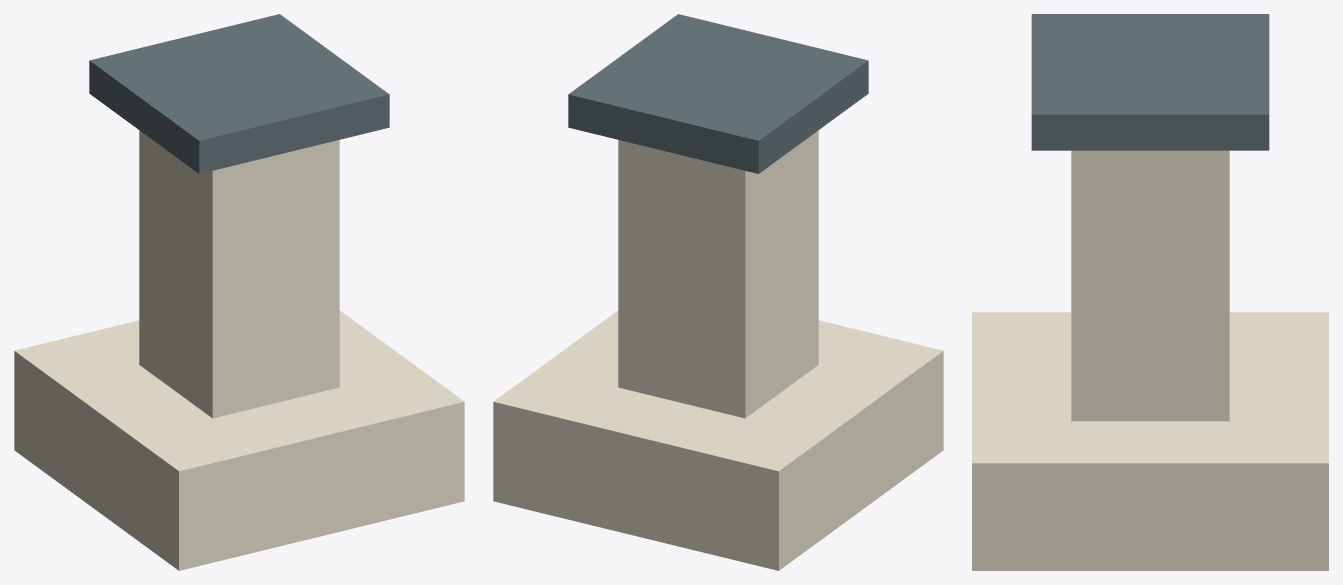
The model's file is observatory.glb.
3 renders of one model, left to right at view 1: azimuth 30°, elevation 25°; view 2: azimuth 150°, elevation 25°; view 3: azimuth 270°, elevation 25°, orthographic. The views are drawn at different scales.
Size of the model in its own units: 2.25 by 3 by 2.25.
